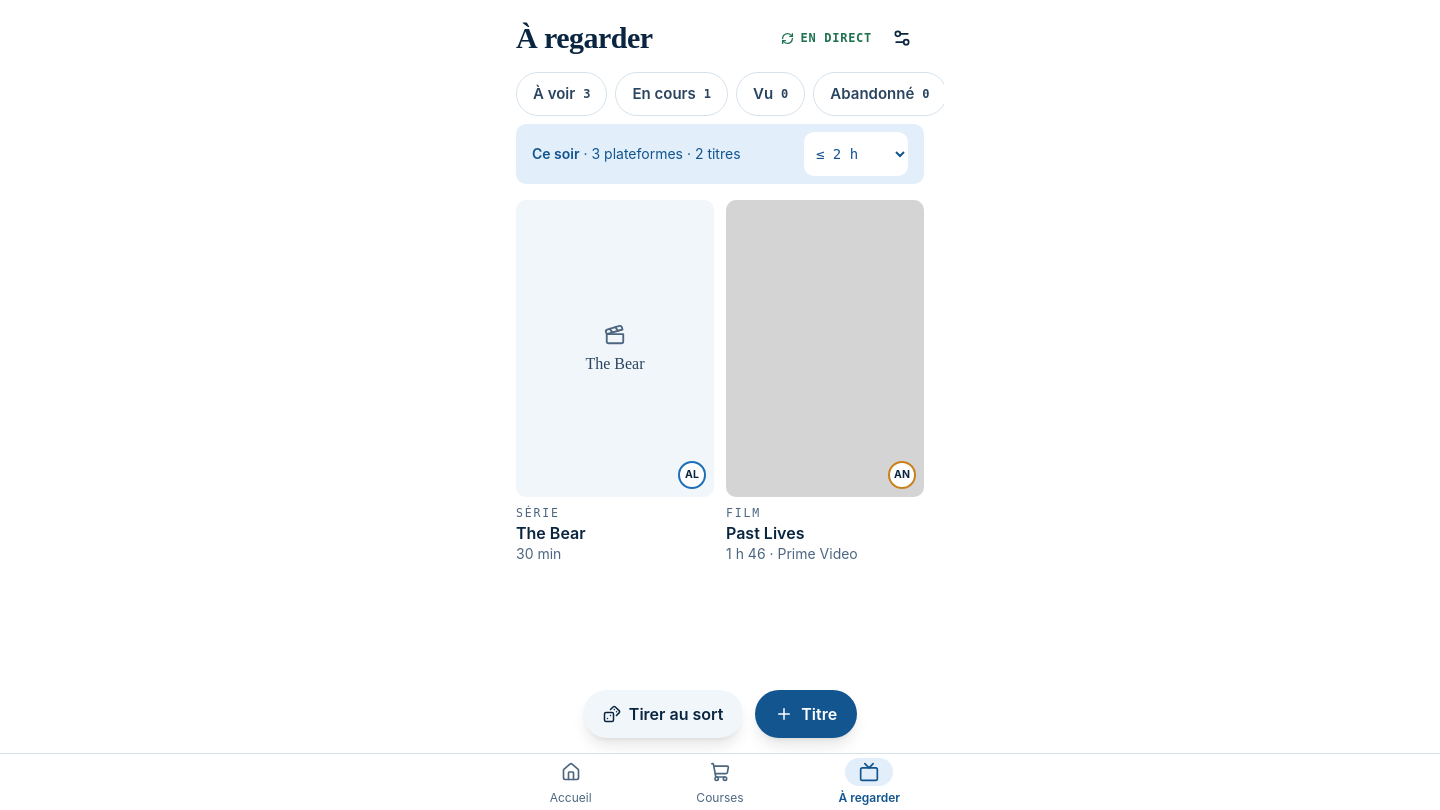
Test: la liste › « Ce soir » filtre par durée et plateforme, et la durée se règle pour l’espace
Check: the heading "À regarder" is shown, box [516, 21, 652, 54]
Check: the text "Ce soir · 3 plateformes · 2 titres" is shown, box [532, 145, 740, 162]
Select "≤ 2 h 30" in the dropdown named "Durée maximale" at (856, 154), box [804, 132, 908, 176]
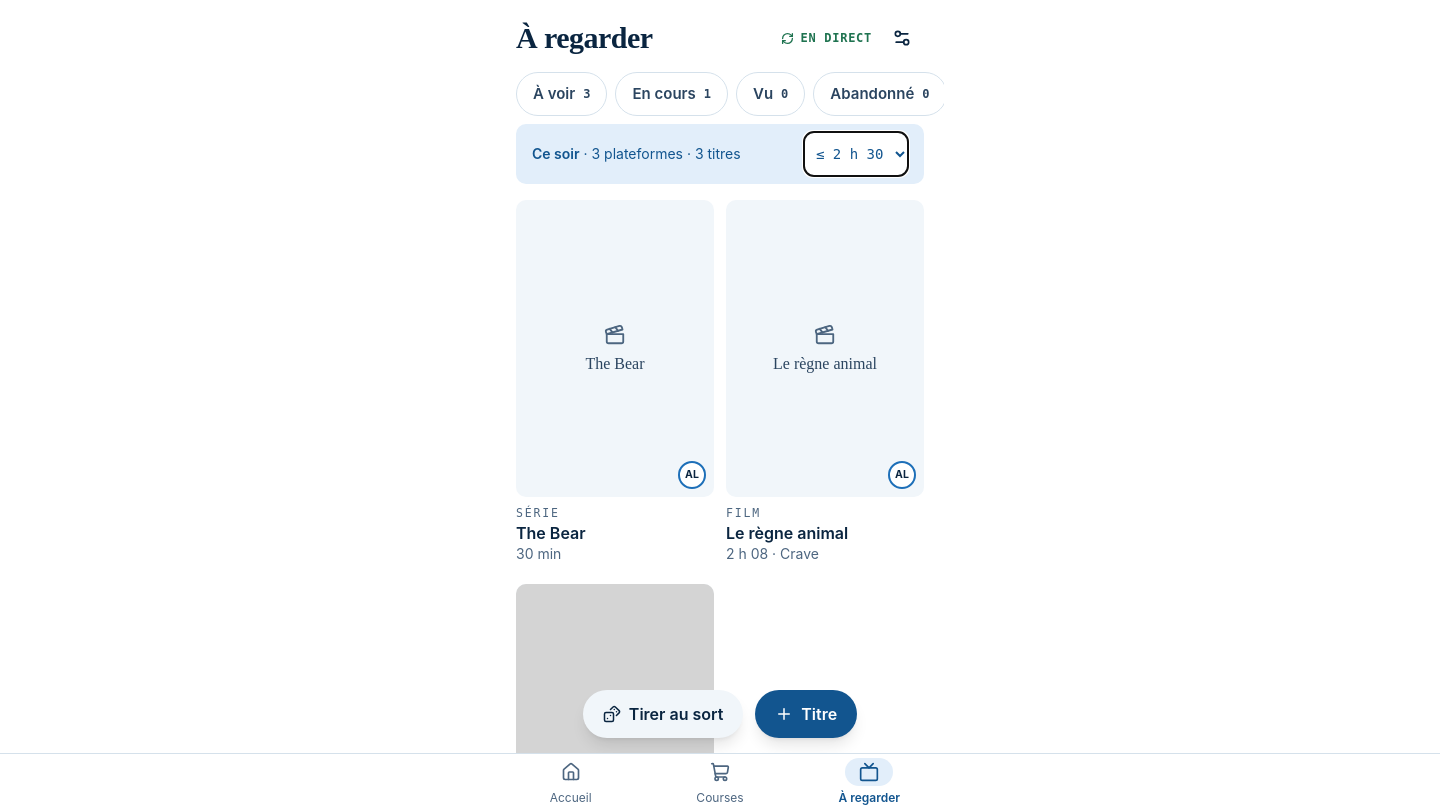
Check: the text "Ce soir · 3 plateformes · 3 titres" is shown, box [532, 145, 741, 162]
